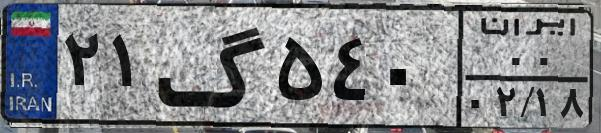0: (385, 28, 445, 110), (537, 27, 568, 80), (508, 27, 537, 80), (470, 70, 495, 125)
1: (110, 28, 156, 98), (535, 70, 560, 125)
2: (57, 26, 110, 100), (495, 70, 520, 125)
4: (330, 28, 385, 110)
5: (270, 28, 330, 110)
8: (560, 70, 590, 125)
گ: (156, 12, 270, 120)
